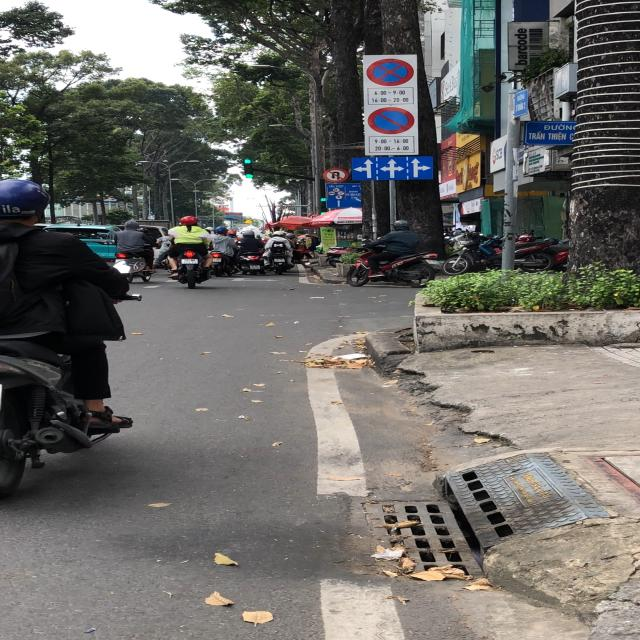Bien bao cam do xe: (366, 106, 421, 138)
Bien bao cam dung xe va do xe: (363, 58, 419, 88)
Bien bao cam quay dau xe: (321, 166, 350, 184)
